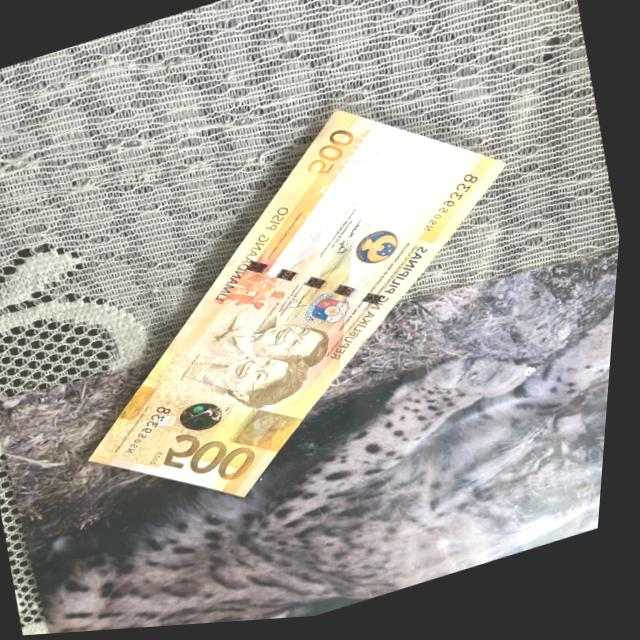concealed_value: (234, 411, 309, 456)
optically_variable_device: (177, 401, 240, 437)
security_thread: (232, 256, 403, 315)
see_through_mark: (320, 139, 378, 201)
serial_number: (118, 401, 188, 462), (425, 176, 486, 240)
value: (161, 434, 271, 488)
value_watermark: (373, 147, 413, 178)
